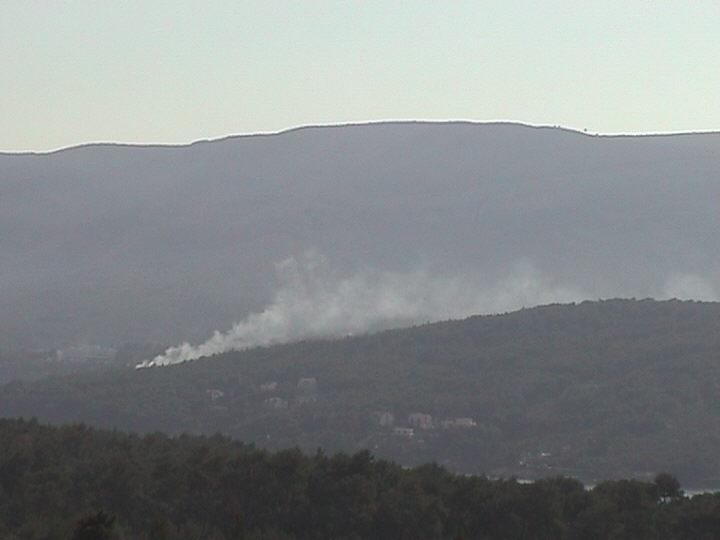Smoke: (131, 255, 719, 370)
